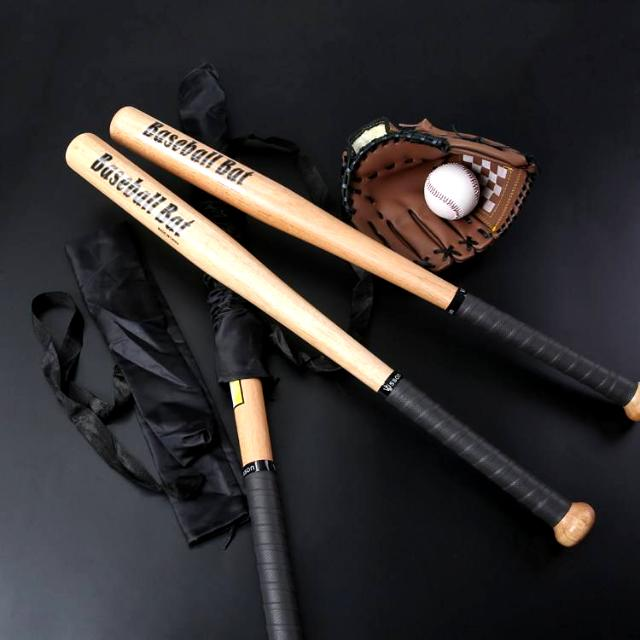baseball bat: (30, 84, 640, 566)
